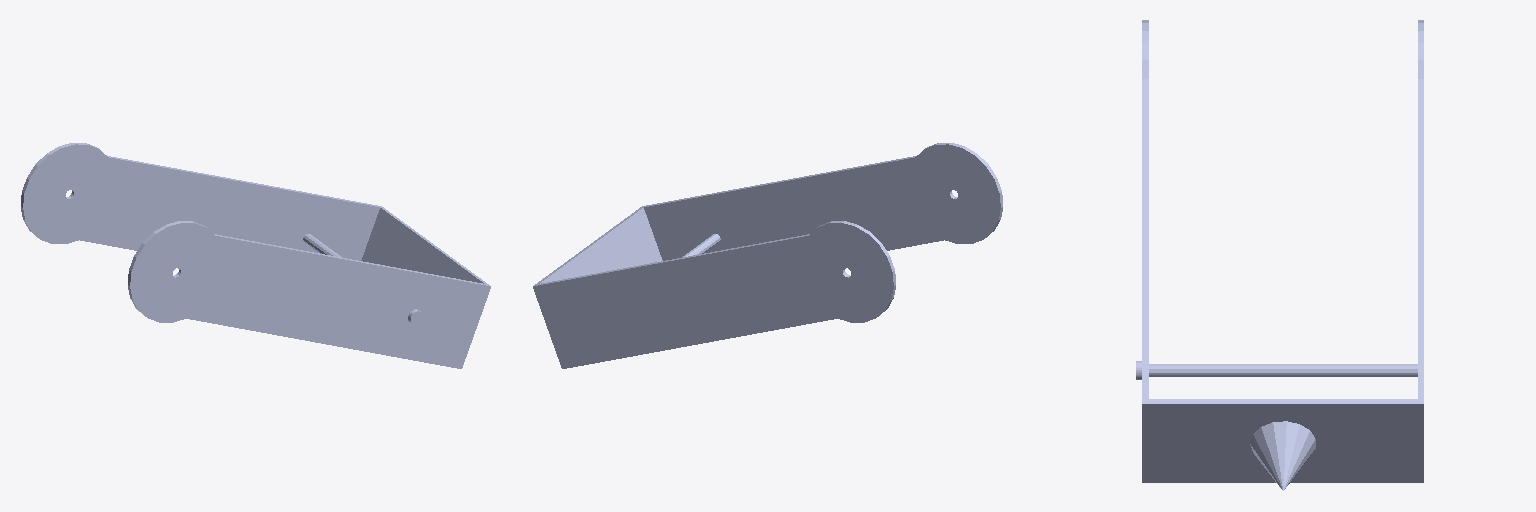
robot.urdf — rrr_bot:
<?xml version="1.0" encoding="utf-8"?>

<robot name="rrr_bot">

  <!-- all links  -->
  <link name="world"/>

  <link name="base_link">
    <inertial>
      <origin
        xyz="-6.24500451351651E-17 -1.49186218934005E-16 0.0290820382955607"
        rpy="0 0 0" />
      <mass
        value="0.0665348672587713" />
      <inertia
        ixx="0.000134459472909859"
        ixy="1.14603188715535E-19"
        ixz="-2.00386528210075E-20"
        iyy="0.00013445947290986"
        iyz="1.91287847184748E-20"
        izz="0.000244427043067851" />
    </inertial>
    <visual>
      <origin
        xyz="0 0 0"
        rpy="0 0 0" />
      <geometry>
        <mesh
          filename="package://rrr_description/meshes/base_link.STL" scale="0.001 0.001 0.001"/>
      </geometry>
      <material
        name="">
        <color
          rgba="0.792156862745098 0.819607843137255 0.933333333333333 1" />
      </material>
    </visual>
    <collision>
      <origin
        xyz="0 0 0"
        rpy="0 0 0" />
      <geometry>
        <mesh
          filename="package://rrr_description/meshes/base_link.STL" scale="0.001 0.001 0.001"/>
      </geometry>
    </collision>
  </link>

  <link name="link1">
    <inertial>
      <origin
        xyz="0.00899945504963388 0.0675106811221554 1.38777878078145E-17"
        rpy="0 0 0" />
      <mass
        value="0.0542610787557387" />
      <inertia
        ixx="2.96311644478969E-05"
        ixy="-1.42050744888731E-06"
        ixz="2.42943233369902E-21"
        iyy="3.77959457351572E-05"
        iyz="-9.93260819216928E-22"
        izz="2.39681172828573E-05" />
    </inertial>
    <visual>
      <origin
        xyz="0 0 0"
        rpy="0 0 0" />
      <geometry>
        <mesh
          filename="package://rrr_description/meshes/link1.STL" scale="0.001 0.001 0.001"/>
      </geometry>
      <material
        name="">
        <color
          rgba="0.792156862745098 0.819607843137255 0.933333333333333 1" />
      </material>
    </visual>
    <collision>
      <origin
        xyz="0 0 0"
        rpy="0 0 0" />
      <geometry>
        <mesh
          filename="package://rrr_description/meshes/link1.STL" scale="0.001 0.001 0.001"/>
      </geometry>
    </collision>
  </link>

  <link name="link2">
    <inertial>
      <origin
        xyz="3.10255300330076E-06 0.065 -0.0462967591551163"
        rpy="0 0 0" />
      <mass
        value="0.0264323022309454" />
      <inertia
        ixx="6.54085091736833E-05"
        ixy="-1.75759336555267E-20"
        ixz="6.41854689425108E-21"
        iyy="8.01926936084795E-06"
        iyz="-9.41965105811981E-21"
        izz="6.26480773704926E-05" />
    </inertial>
    <visual>
      <origin
        xyz="0 0 0"
        rpy="0 0 0" />
      <geometry>
        <mesh
          filename="package://rrr_description/meshes/link2.STL" scale="0.001 0.001 0.001"/>
      </geometry>
      <material
        name="">
        <color
          rgba="0.792156862745098 0.819607843137255 0.933333333333333 1" />
      </material>
    </visual>
    <collision>
      <origin
        xyz="0 0 0"
        rpy="0 0 0" />
      <geometry>
        <mesh
          filename="package://rrr_description/meshes/link2.STL" scale="0.001 0.001 0.001" />
      </geometry>
    </collision>
  </link>

  <link name="link3">
    <inertial>
      <origin
        xyz="-5.55111512312578E-17 0.0841958360378099 0.0425766525613882"
        rpy="0 0 0" />
      <mass
        value="0.0320911265483328" />
      <inertia
        ixx="0.000136456819110822"
        ixy="6.43745039913268E-20"
        ixz="-2.13748363582812E-20"
        iyy="4.68765596817674E-05"
        iyz="5.32902400775416E-20"
        izz="9.57155265710446E-05" />
    </inertial>
    <visual>
      <origin
        xyz="0 0 0"
        rpy="0 0 0" />
      <geometry>
        <mesh
          filename="package://rrr_description/meshes/link3.STL" scale="0.001 0.001 0.001"/>
      </geometry>
      <material
        name="">
        <color
          rgba="0.792156862745098 0.819607843137255 0.933333333333333 1" />
      </material>
    </visual>
    <collision>
      <origin
        xyz="0 0 0"
        rpy="0 0 0" />
      <geometry>
        <mesh
          filename="package://rrr_description/meshes/link3.STL" scale="0.001 0.001 0.001"/>
      </geometry>
    </collision>
  </link>

  <!-- all joints -->
  <joint name="joint_world" type="fixed">
    <origin  xyz="0 0 0"  rpy="0 0 0" />
    <parent link="world" />
    <child link="base_link" />
  </joint>

  <joint name="joint1" type="revolute">
    <origin xyz="0 0 0.04" rpy="1.5708 0 0" />
    <parent link="base_link" />
    <child link="link1" />
    <axis  xyz="0 1 0" />
    <limit lower="-1.57" upper="1.57"  effort="10" velocity="3.14" />
  </joint>

  <joint name="joint2"  type="revolute">
    <origin xyz="0.040997 0.14802 0.0465" rpy="0 0 -0.38088" />
    <parent link="link1" />
    <child link="link2" />
    <axis xyz="0 0 -1" />
    <limit lower="-1.57" upper="1.57" effort="10" velocity="3.14" />
  </joint>

  <joint name="joint3" type="revolute">
    <origin xyz="0 0.13 -0.091" rpy="0 0 -1.5782" />
    <parent link="link2" />
    <child link="link3" />
    <axis  xyz="0 0 1" />
    <limit lower="-1.57" upper="1.57" effort="10" velocity="3.14" />
  </joint>


  <!-- all transmission -->
  <transmission name="transmission1">
    <type>transmission_interface/SimpleTransmission</type>
    <joint name="joint1">
      <hardwareInterface>hardware_interface/PositionJointInterface</hardwareInterface>
    </joint>
    <actuator name="motor1">
      <hardwareInterface>hardware_interface/PositionJointInterface</hardwareInterface>
      <mechanicalReduction>1</mechanicalReduction>
    </actuator>
  </transmission>

  <transmission name="transmission2">
    <type>transmission_interface/SimpleTransmission</type>
    <joint name="joint2">
      <hardwareInterface>hardware_interface/PositionJointInterface</hardwareInterface>
    </joint>
    <actuator name="motor2">
      <hardwareInterface>hardware_interface/PositionJointInterface</hardwareInterface>
      <mechanicalReduction>1</mechanicalReduction>
    </actuator>
  </transmission>

  <transmission name="transmission3">
    <type>transmission_interface/SimpleTransmission</type>
    <joint name="joint3">
      <hardwareInterface>hardware_interface/PositionJointInterface</hardwareInterface>
    </joint>
    <actuator name="motor3">
      <hardwareInterface>hardware_interface/PositionJointInterface</hardwareInterface>
      <mechanicalReduction>1</mechanicalReduction>
    </actuator>
  </transmission>


  <!-- all control gazebo plugin -->
  <gazebo>
    <plugin name="gazebo_ros_control" filename="libgazebo_ros_control.so">
      <robotNamespace>/</robotNamespace>
      <robotSimType>gazebo_ros_control/DefaultRobotHWSim</robotSimType>
      <legacyModeNS>true</legacyModeNS>
    </plugin>
  </gazebo>


</robot>

--- What the picture shows (computed from the rendered views, not written in the file) ---
The picture shows the robot from 3 angles, left to right: view 1: azimuth 30°, elevation 25°; view 2: azimuth 150°, elevation 25°; view 3: azimuth 270°, elevation 25°; orthographic projection.
Robot: rrr_bot — 5 links, 4 joints (3 revolute, 1 fixed); root link world; default pose: all joints at 0.
Links seen in each view (by area): view 1: link3; view 2: link3; view 3: link3.
Link boxes in pixels (<box>): link3: <box>21,143,490,368</box>; link3: <box>533,143,1002,368</box>; link3: <box>1136,20,1423,490</box>.
Size in the robot's own frame: 0.1734 by 0.087 by 0.092 metres.
Meshes: 4 distinct files referenced, 1 mesh visuals loaded (1 binary STL); not drawn: 3 (reference not matched to a file when rendering).